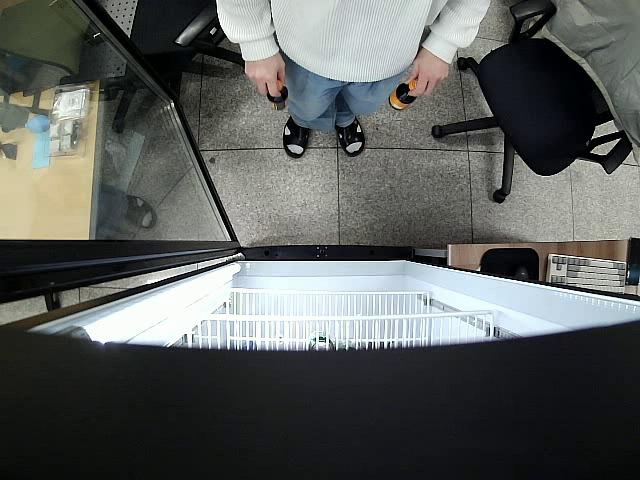00_hand: (243, 49, 288, 99), (405, 49, 449, 99)
17_vita500: (388, 77, 420, 113), (263, 76, 289, 114)
